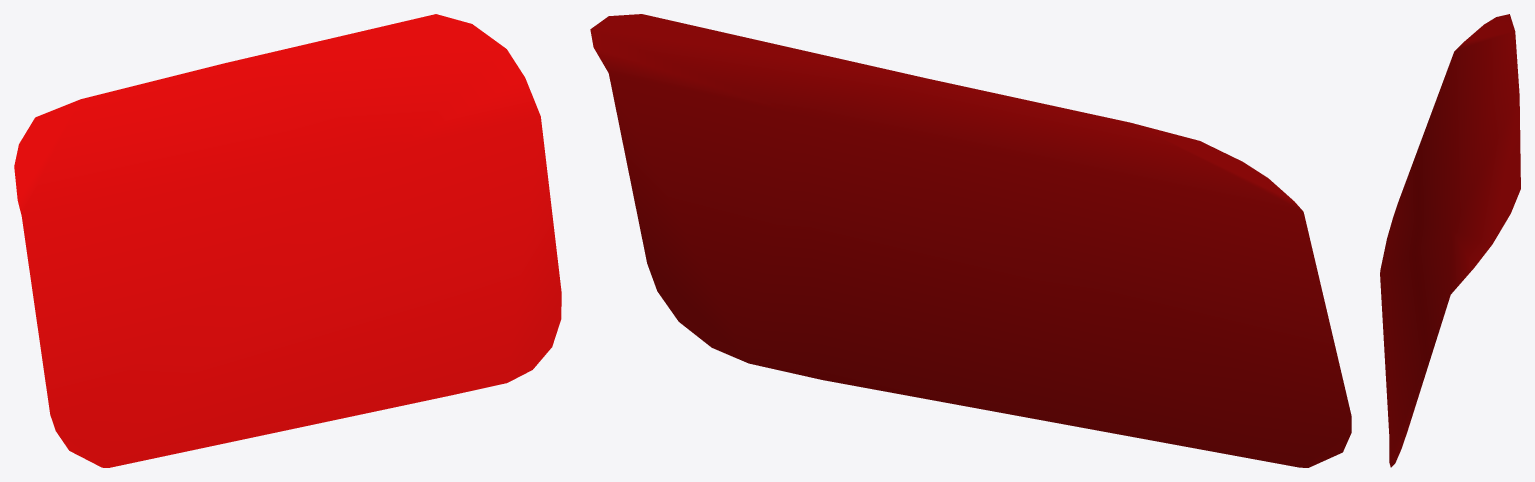
File: rafale_highlight_14_bsdm.fbx
The picture shows the model from 3 angles, left to right: view 1: azimuth 30°, elevation 25°; view 2: azimuth 150°, elevation 25°; view 3: azimuth 270°, elevation 25°; orthographic projection. The views are drawn at different scales.
Visible parts, largest first — view 1: rafale_highlight_14_bsdm; view 2: rafale_highlight_14_bsdm; view 3: rafale_highlight_14_bsdm.
Boxes of the visible parts, bbox=[...] form: rafale_highlight_14_bsdm: bbox=[14, 14, 561, 467]; rafale_highlight_14_bsdm: bbox=[590, 14, 1351, 467]; rafale_highlight_14_bsdm: bbox=[1380, 14, 1520, 467].
Size of the model in its own units: 15.77 by 9.19 by 4.21.
